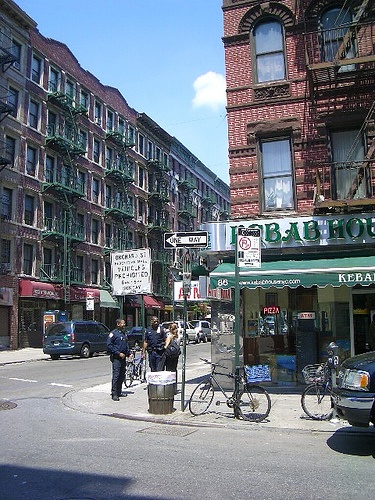non-vehicle: (188, 356, 274, 424), (301, 342, 338, 420), (123, 356, 143, 386)
